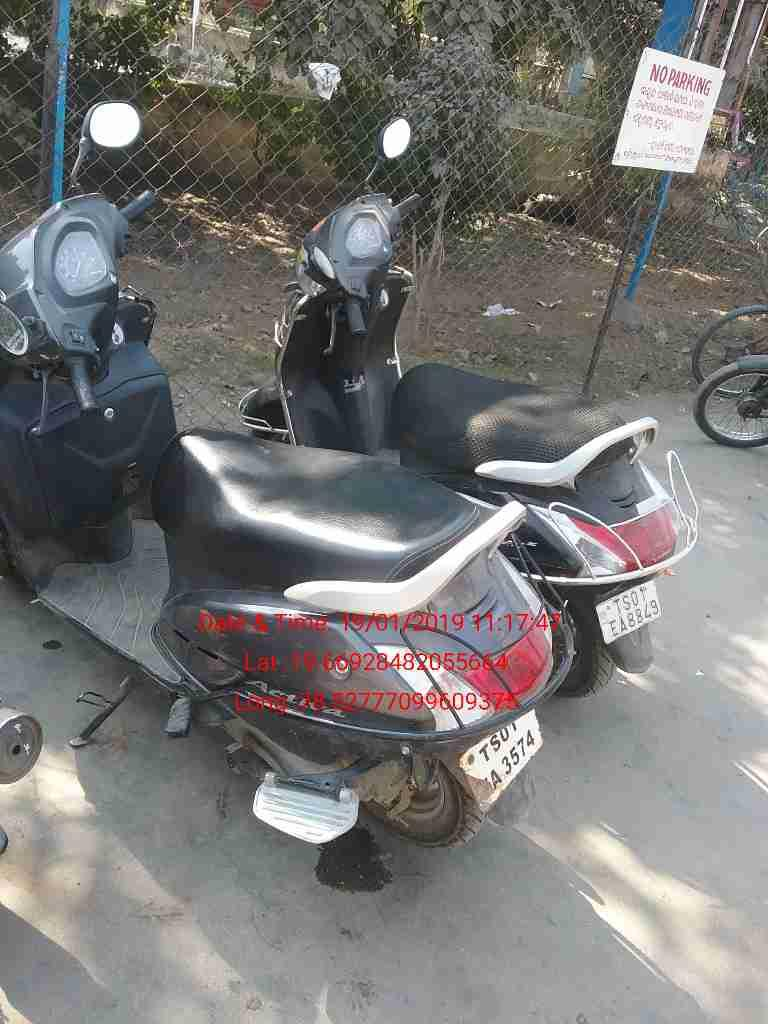plate: (461, 711, 544, 797), (591, 582, 666, 644)
